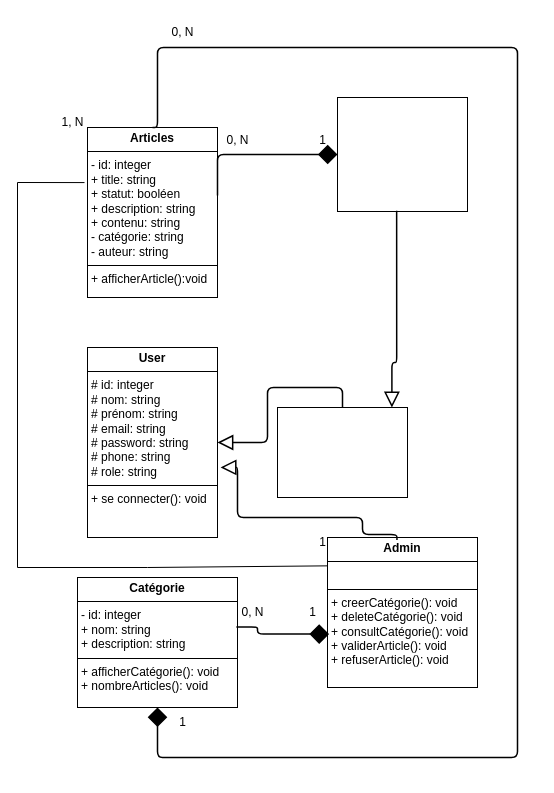
This 554x793 diagram has some shape labels left out. Each missing label, with the centre of its shape:
"Author + createArticle(): void + modifyArticle(): void + deleteArticle(): void" goes at (402,154).
"Member + consulter(): void + s'inscrire(): void" goes at (342,452).
